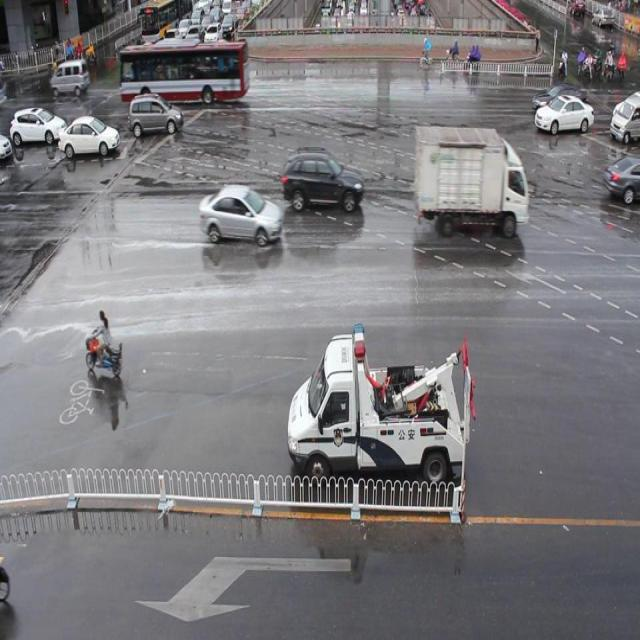bus: (286, 320, 475, 486), (413, 124, 528, 234)
car: (282, 149, 364, 212), (199, 184, 281, 245), (57, 114, 120, 157), (534, 92, 593, 132), (128, 96, 184, 134), (602, 154, 640, 204)
truck: (608, 92, 640, 143)
van: (120, 44, 250, 102)
